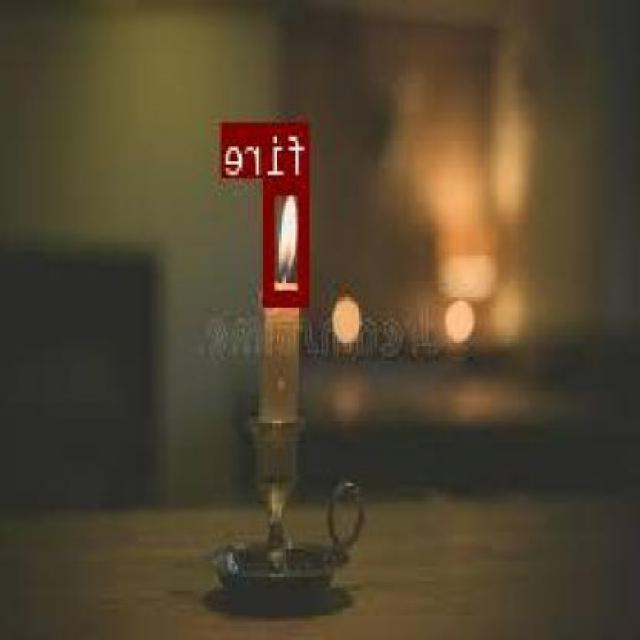fire: (266, 175, 312, 303)
